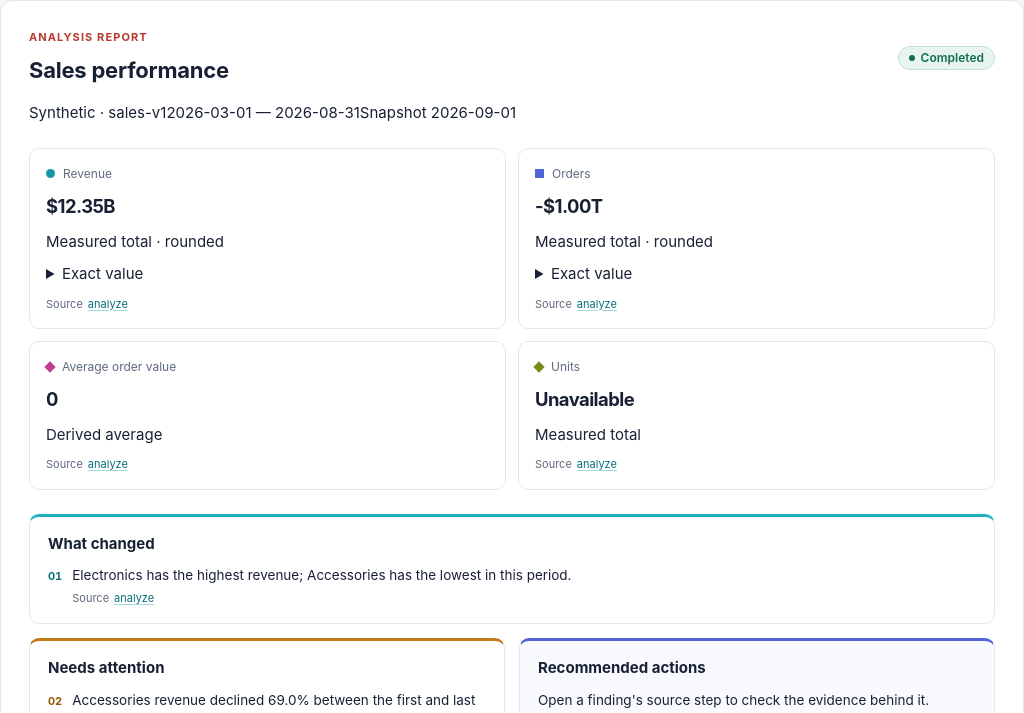
Scenario: large KPI values (B3) › shows a marked compact value, with the exact value available accessibly
Check: the element with test id "analytics-kpi" shows "rounded", box [152,232,224,251]
Click the heading "Exact value" below "$12.35B".
click(103, 274)  # box [62,264,143,283]
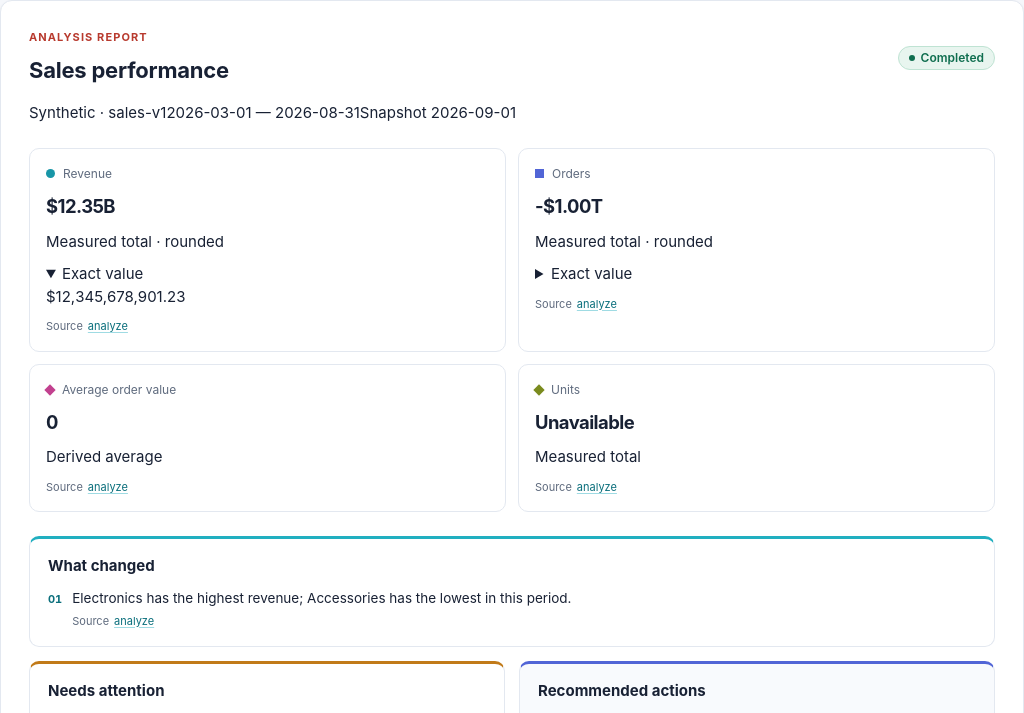
Check: the text "-$1.00T" is shown, box [535,195,602,217]
Check: the element with class "kpi-exact-value" reads "$12,345,678,901.23", box [46,287,185,306]
